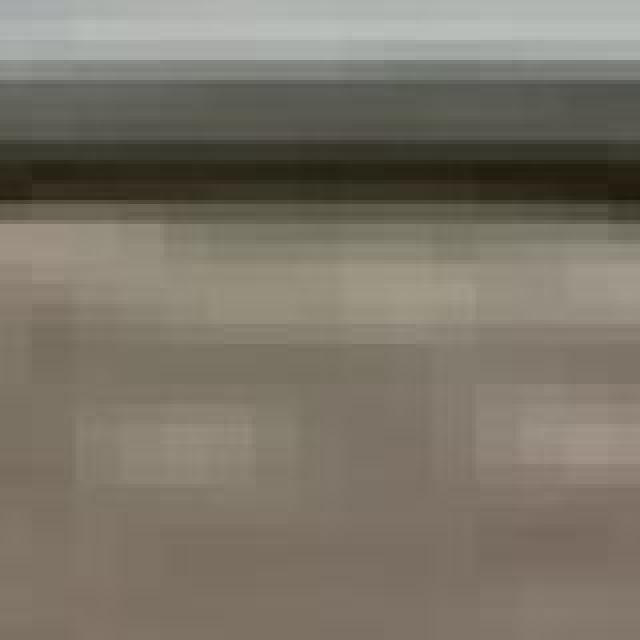clock: (0, 148, 640, 640)
